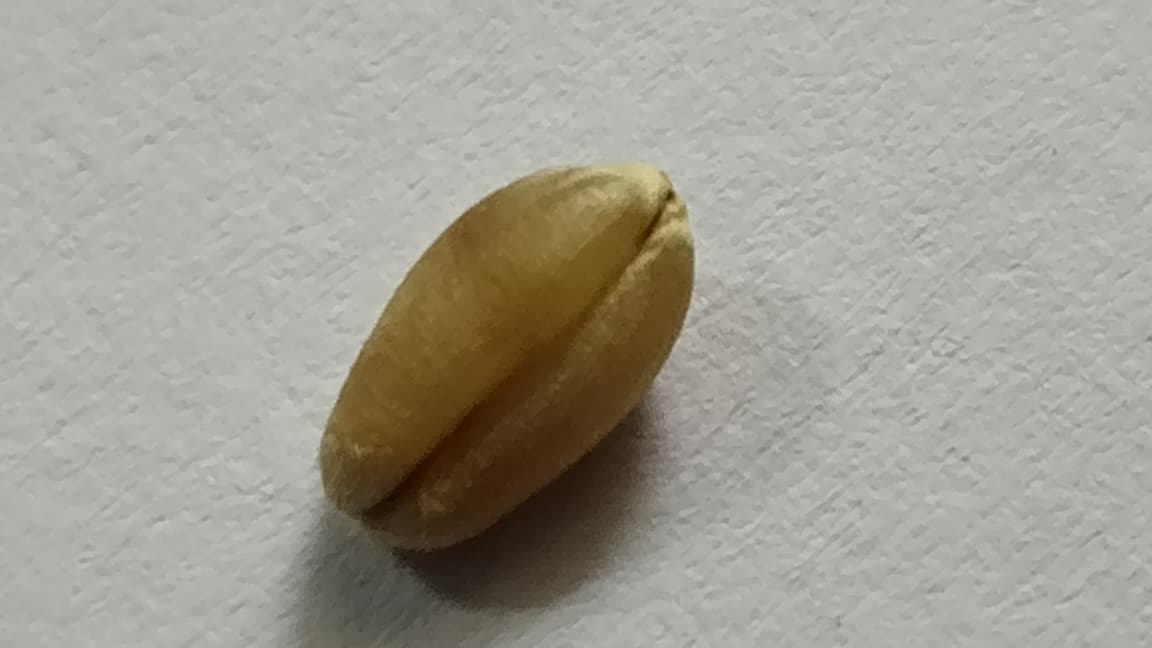healthy: (320, 162, 693, 548)
